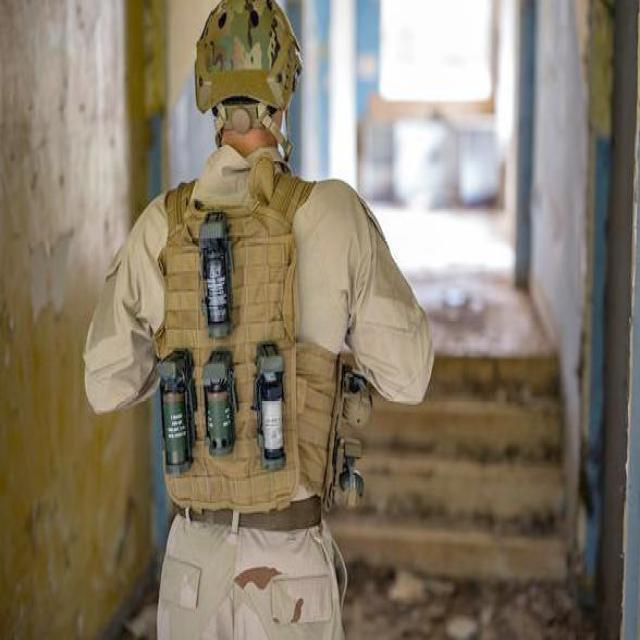grenade: (159, 349, 198, 476), (200, 208, 236, 344), (252, 347, 288, 470), (203, 352, 240, 458), (337, 437, 367, 514), (344, 370, 374, 430)
